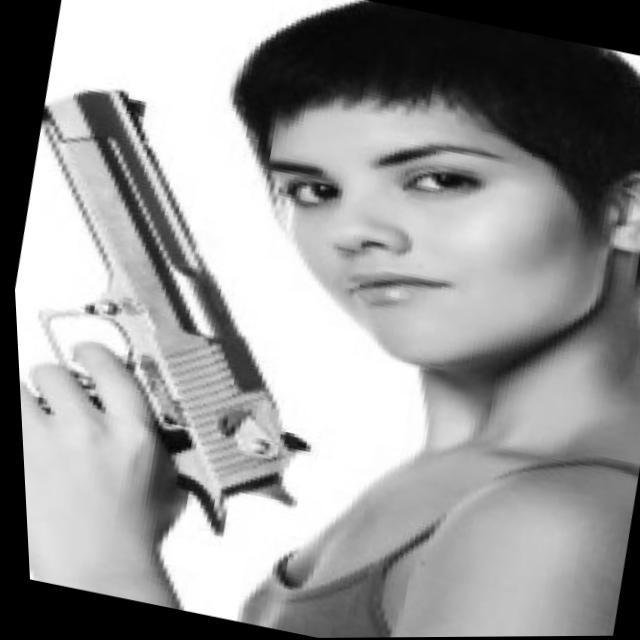weapon: (2, 68, 396, 599)
